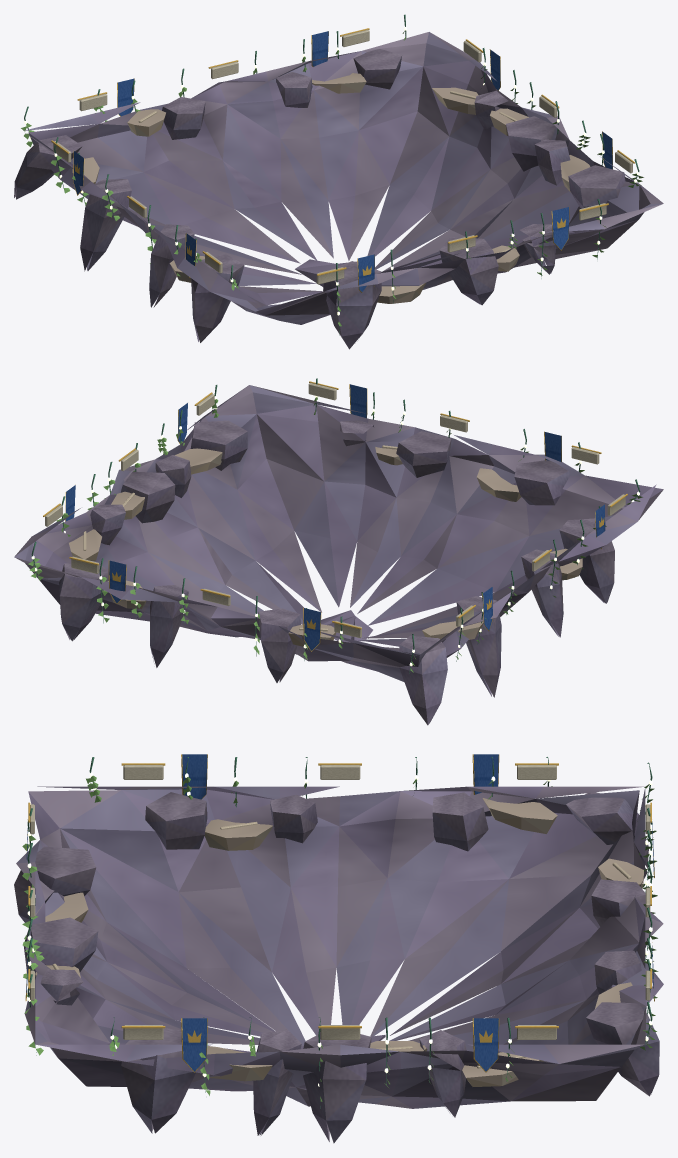
File: crown-foundation-v2-balanced.glb
The picture shows the model from 3 angles, top to bottom: view 1: azimuth 30°, elevation 25°; view 2: azimuth 150°, elevation 25°; view 3: azimuth 270°, elevation 25°; orthographic projection. The views are drawn at different scales.
Parts seen in each view (by area): view 1: crown-foundation-v2; view 2: crown-foundation-v2; view 3: crown-foundation-v2.
Part boxes in pixels (box(x1,y1,x2,y2)): crown-foundation-v2: box(14, 14, 663, 349); crown-foundation-v2: box(14, 378, 663, 725); crown-foundation-v2: box(14, 754, 663, 1143).
Bounding box in the file's own units: 26.99 × 8.44 × 26.76.
Materials: 7 (7 with a texture image).
